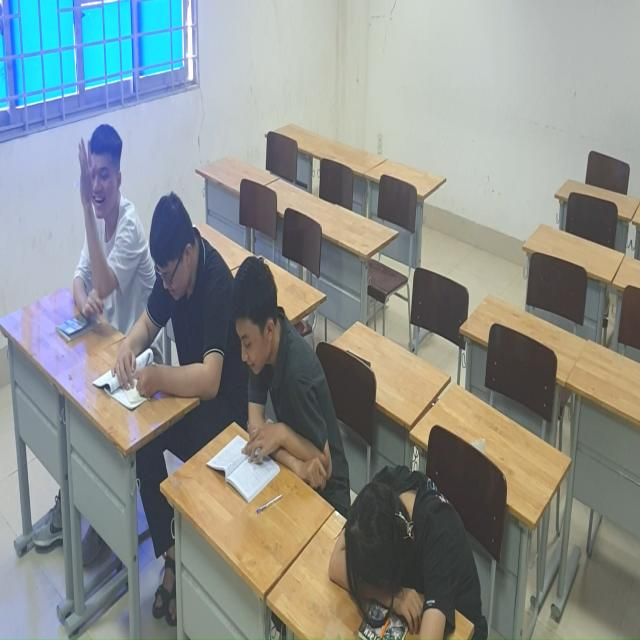raise_hand: (61, 119, 135, 335)
read: (200, 254, 336, 512), (93, 184, 225, 415)
sleep: (328, 454, 488, 640)
